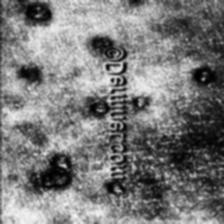Toxin: (40, 148, 72, 190), (24, 8, 56, 20), (19, 60, 40, 76), (82, 38, 110, 48), (192, 70, 210, 83), (91, 102, 107, 116), (106, 187, 126, 195), (137, 98, 145, 110)
